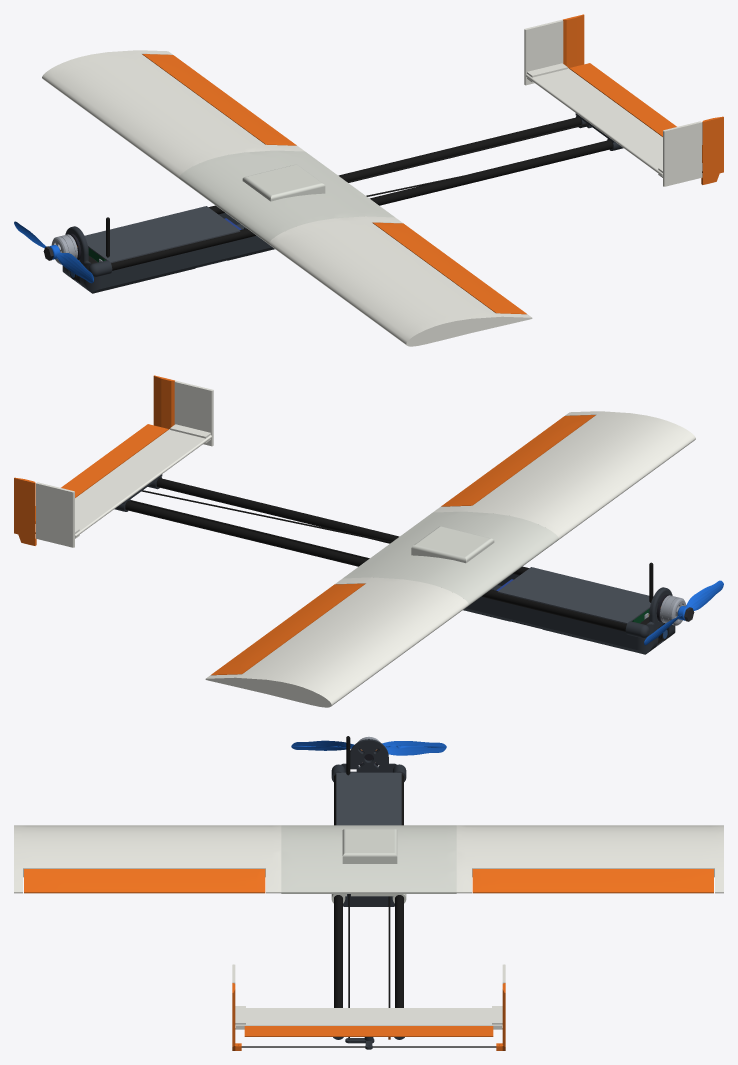
Rendered from airframe.glb.
3 views of the same model, one above another, from view 1: azimuth 30°, elevation 25°; view 2: azimuth 150°, elevation 25°; view 3: azimuth 270°, elevation 25° (orthographic). The views are drawn at different scales.
Visible parts, largest first — view 1: wing_L, wing_R, wing_centre, stab, lid, pod, tube_L, aileron_R, aileron_L, fin_L, tube_R, fin_R (+5 smaller); view 2: wing_R, wing_L, wing_centre, stab, lid, pod, tube_R, aileron_R, aileron_L, tube_L, fin_R, fin_L (+5 smaller); view 3: wing_R, wing_L, wing_centre, aileron_R, aileron_L, stab, lid, elevator, pod, prop, tube_L, tube_R.
Boxes of the visible parts, x1=… form: wing_L: x1=269, y1=216, x2=532, y2=346; wing_R: x1=42, y1=50, x2=304, y2=178; wing_centre: x1=179, y1=150, x2=394, y2=244; stab: x1=526, y1=68, x2=662, y2=176; lid: x1=84, y1=206, x2=240, y2=263; pod: x1=62, y1=212, x2=274, y2=293; tube_L: x1=111, y1=140, x2=612, y2=270; aileron_R: x1=142, y1=54, x2=296, y2=145; aileron_L: x1=372, y1=222, x2=526, y2=314; fin_L: x1=658, y1=121, x2=701, y2=186; tube_R: x1=208, y1=117, x2=581, y2=214; fin_R: x1=524, y1=20, x2=567, y2=85; wing_R: x1=205, y1=577, x2=468, y2=707; wing_L: x1=433, y1=411, x2=695, y2=539; wing_centre: x1=343, y1=511, x2=558, y2=605; stab: x1=75, y1=429, x2=211, y2=537; lid: x1=497, y1=567, x2=650, y2=624; pod: x1=463, y1=573, x2=675, y2=654; tube_R: x1=125, y1=501, x2=626, y2=631; aileron_R: x1=211, y1=583, x2=365, y2=675; aileron_L: x1=441, y1=415, x2=595, y2=506; tube_L: x1=156, y1=478, x2=529, y2=575; fin_R: x1=36, y1=482, x2=79, y2=547; fin_L: x1=170, y1=381, x2=213, y2=446; wing_R: x1=456, y1=825, x2=723, y2=893; wing_L: x1=14, y1=825, x2=281, y2=893; wing_centre: x1=281, y1=825, x2=456, y2=903; aileron_R: x1=472, y1=869, x2=713, y2=893; aileron_L: x1=24, y1=869, x2=265, y2=893; stab: x1=236, y1=1008, x2=501, y2=1028; lid: x1=336, y1=772, x2=401, y2=825; elevator: x1=244, y1=1026, x2=493, y2=1039; pod: x1=331, y1=739, x2=406, y2=906; prop: x1=291, y1=740, x2=446, y2=755; tube_L: x1=334, y1=774, x2=342, y2=1007; tube_R: x1=395, y1=774, x2=403, y2=1007.
Size of the model in its own units: 0.4471 by 0.0553 by 0.465.
